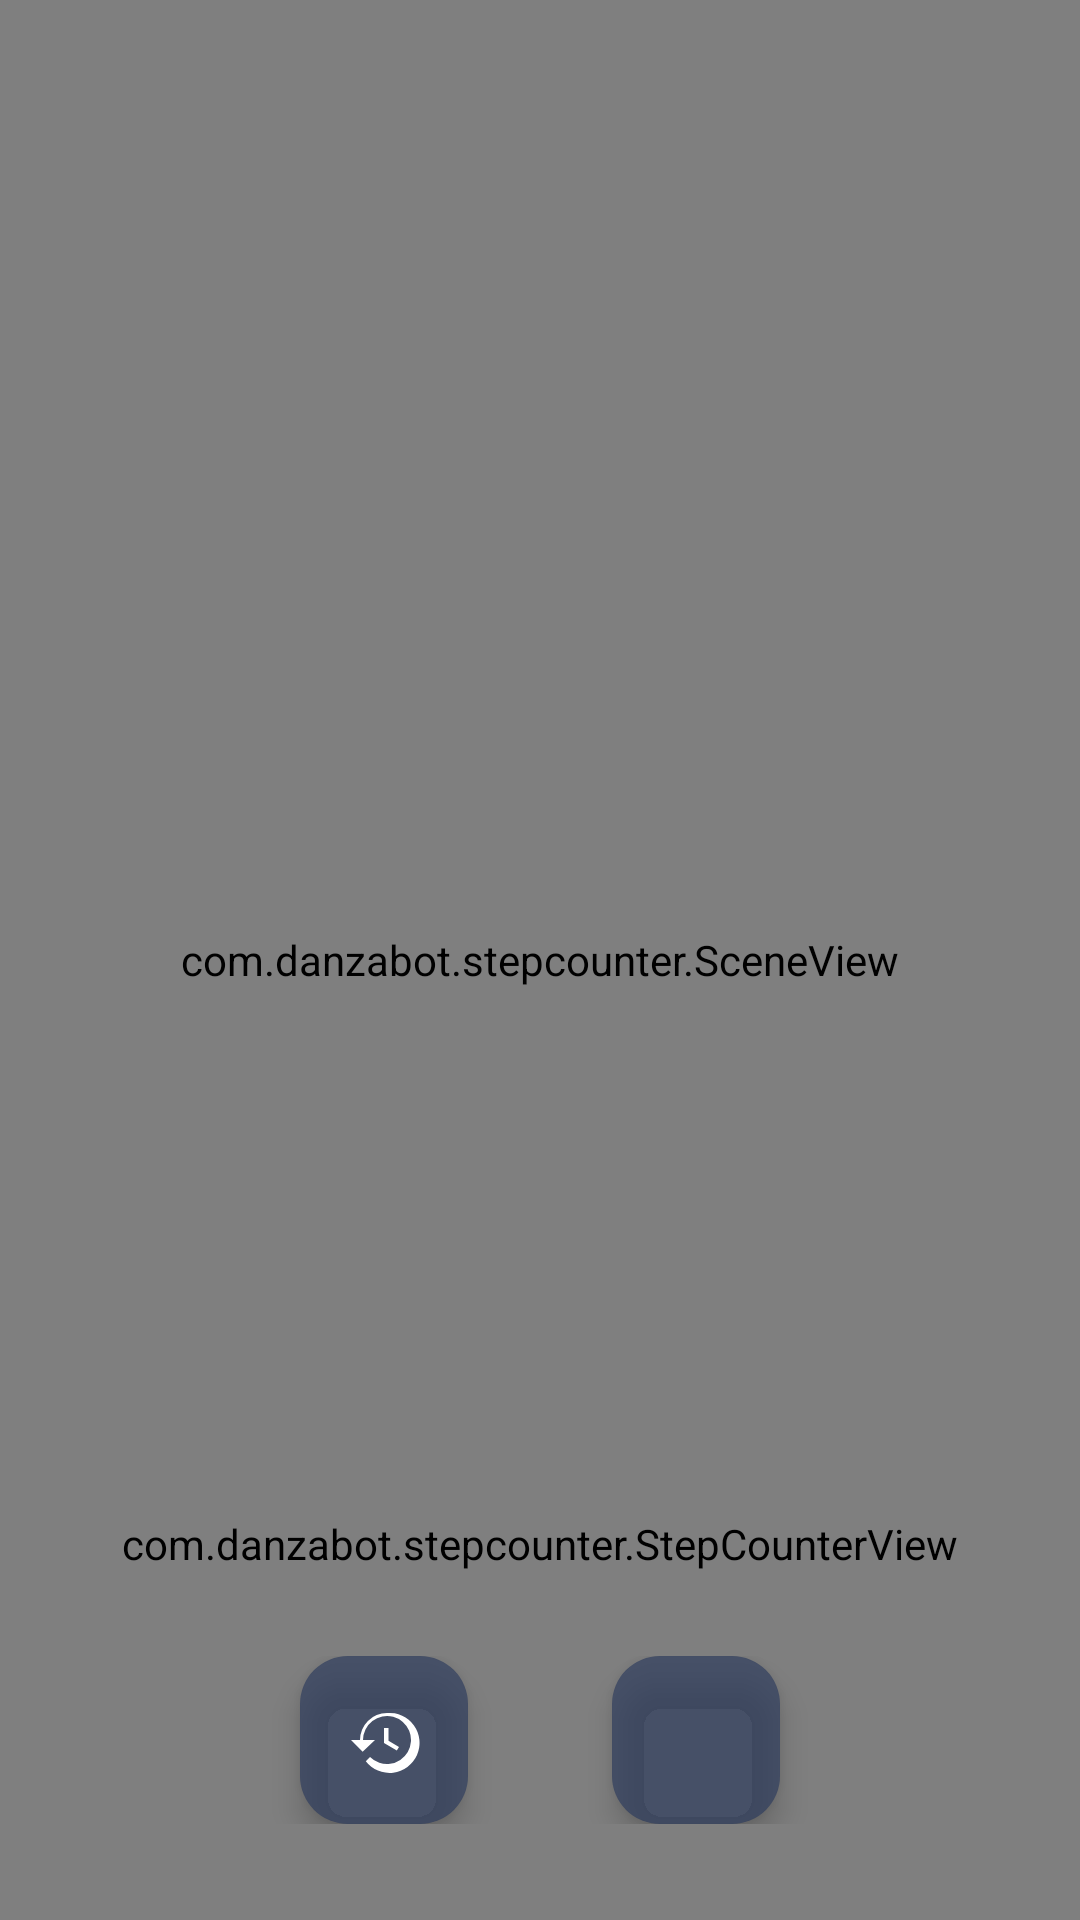

Locate icon controls on the screen. Image size 1080w x 1920h, boxes as (x1, y1, x2, y2).
History: (300, 1656, 468, 1824)
